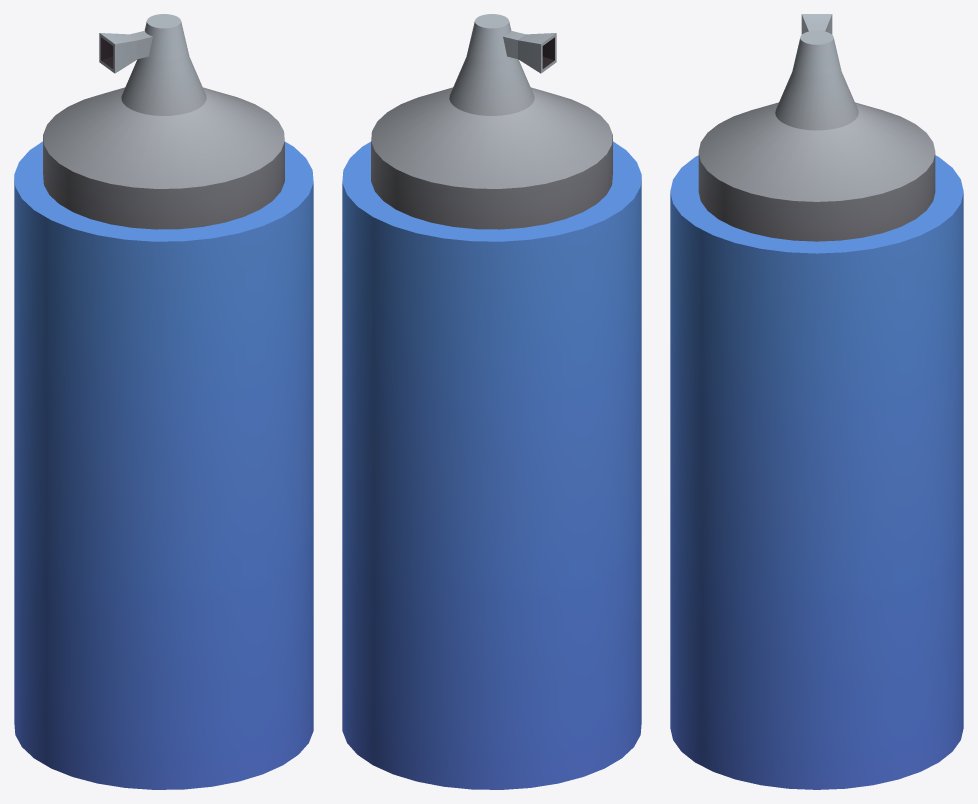
Rendered from Body_Paint.fbx.
The picture shows the model from 3 angles, left to right: view 1: azimuth 30°, elevation 25°; view 2: azimuth 150°, elevation 25°; view 3: azimuth 270°, elevation 25°; orthographic projection. The views are drawn at different scales.
Parts seen in each view (by area): view 1: Base, Spray; view 2: Base, Spray; view 3: Base, Spray.
Boxes of the visible parts, x1=… form: Base: x1=14, y1=141, x2=313, y2=789; Spray: x1=43, y1=14, x2=284, y2=229; Base: x1=342, y1=141, x2=641, y2=789; Spray: x1=371, y1=14, x2=612, y2=229; Base: x1=670, y1=155, x2=963, y2=789; Spray: x1=698, y1=14, x2=935, y2=241.
Bounding box in the file's own units: 2 × 5.19 × 2.
